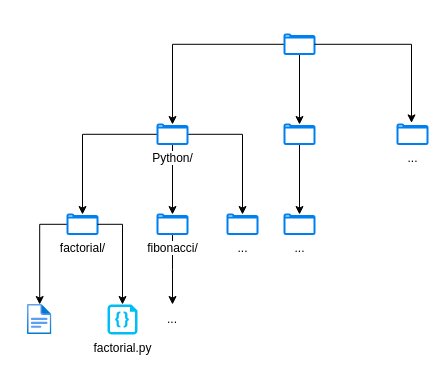
Some shapes in this 446 by 372 pixel diagram are drawn without their labels. The centre of each missing label's shape, as x and y in pixels:
C/: [299,133]
Languages/: [299,43]
Makefile: [39,319]
